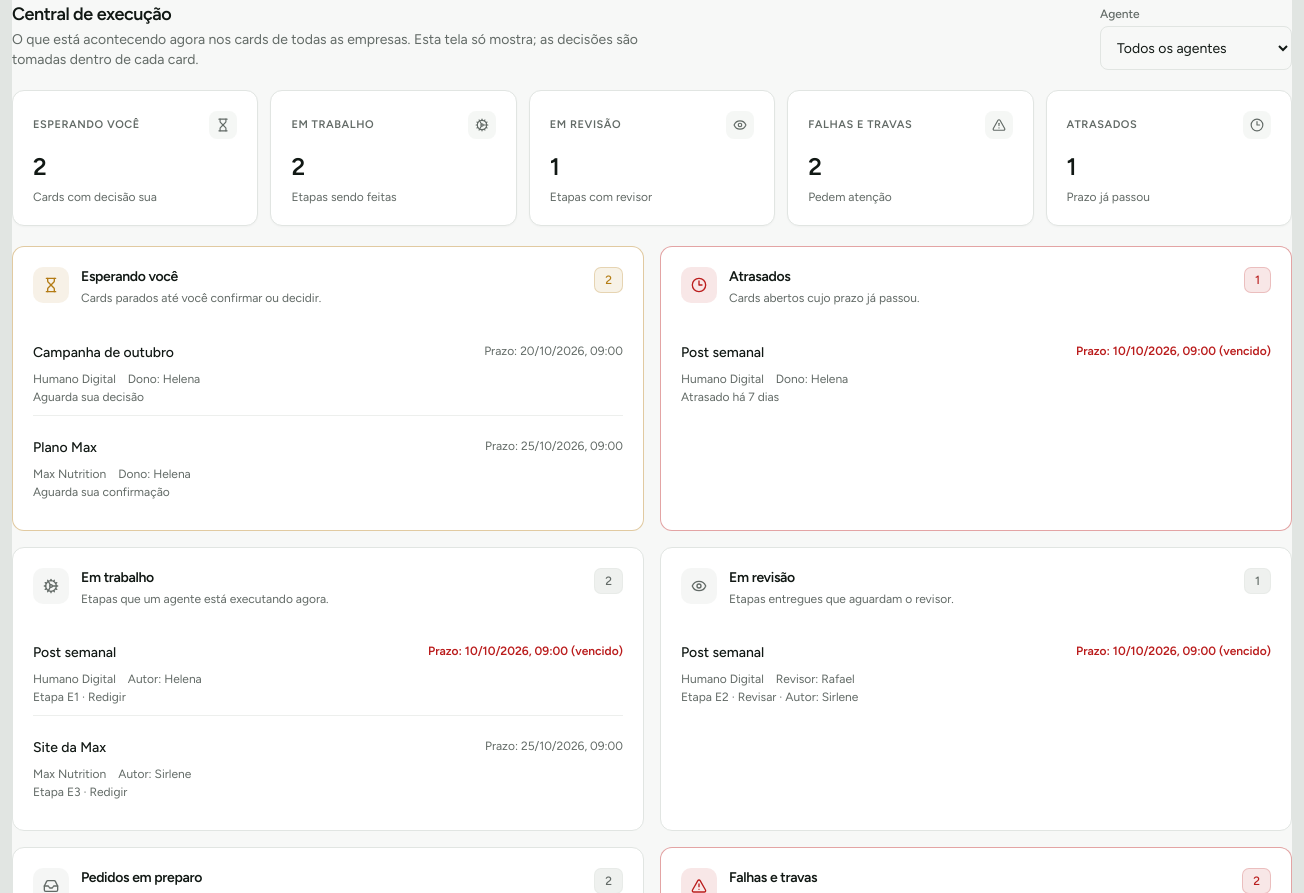
it: filtra por agente e avisa que pedidos não têm agente
The image size is (1304, 893).
Select "Rafael" in the dropdown named "Filtrar por agente": (1196, 48) top-left (1100, 26), bottom-right (1292, 70)
(page scrolled)
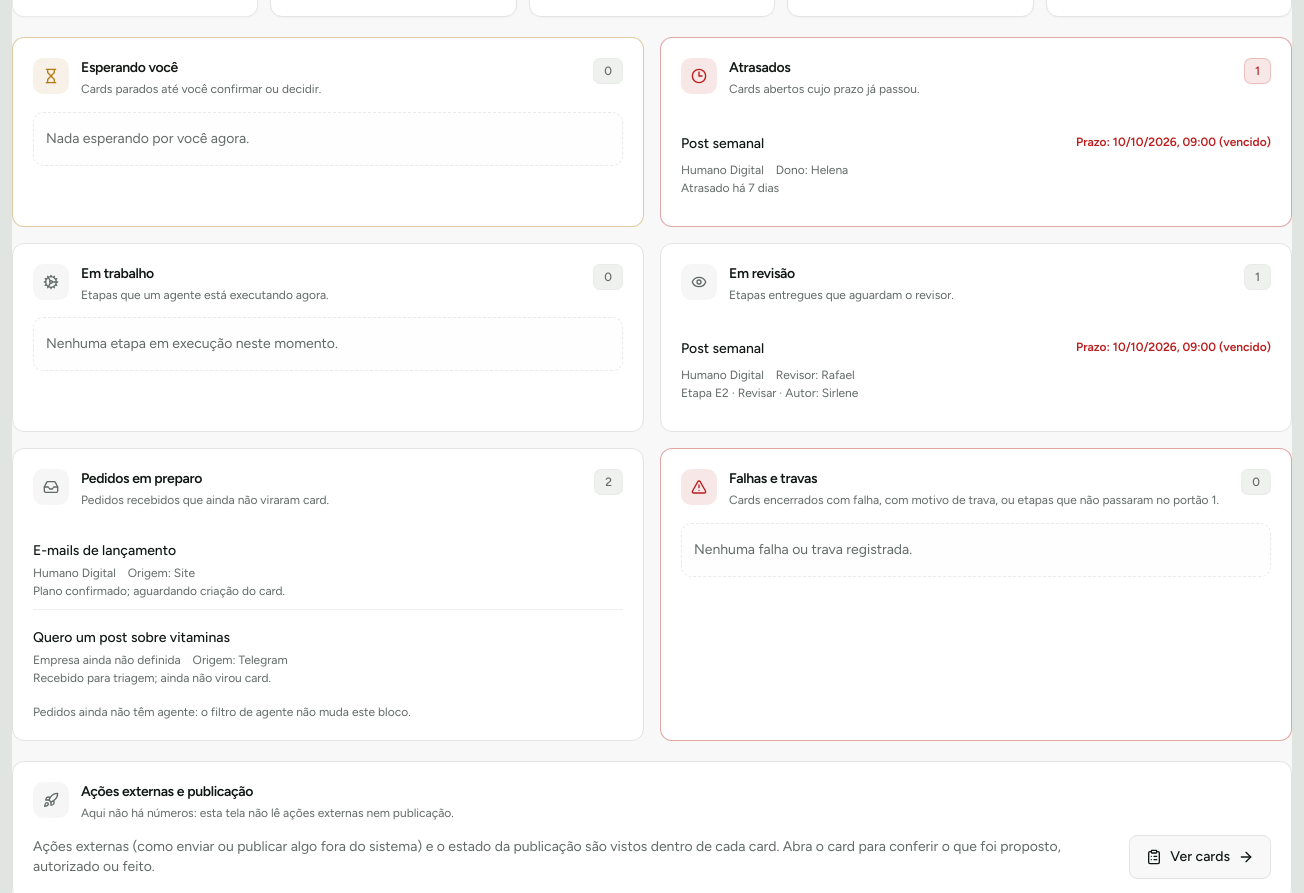
Result: the text "Nenhuma etapa em execução neste momento." is shown at top-left (33, 317), bottom-right (623, 371)
Result: the text "filtro de agente não muda este bloco" is shown at top-left (33, 704), bottom-right (411, 718)
